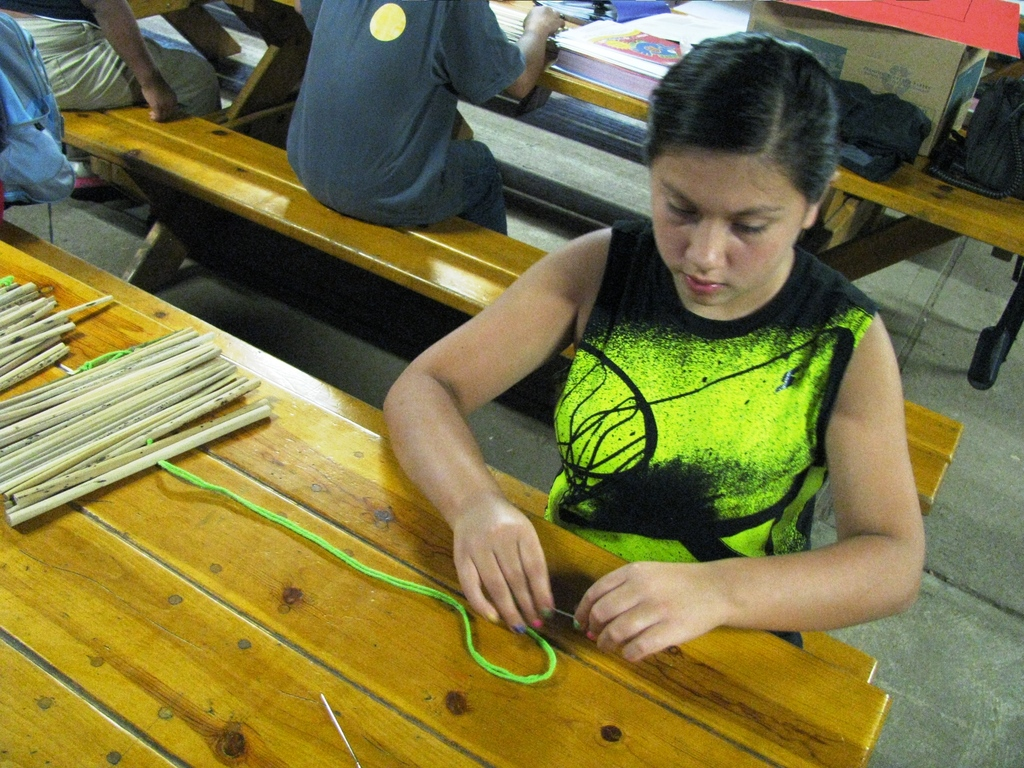Human_hand: (574, 559, 719, 668), (452, 494, 554, 634)
